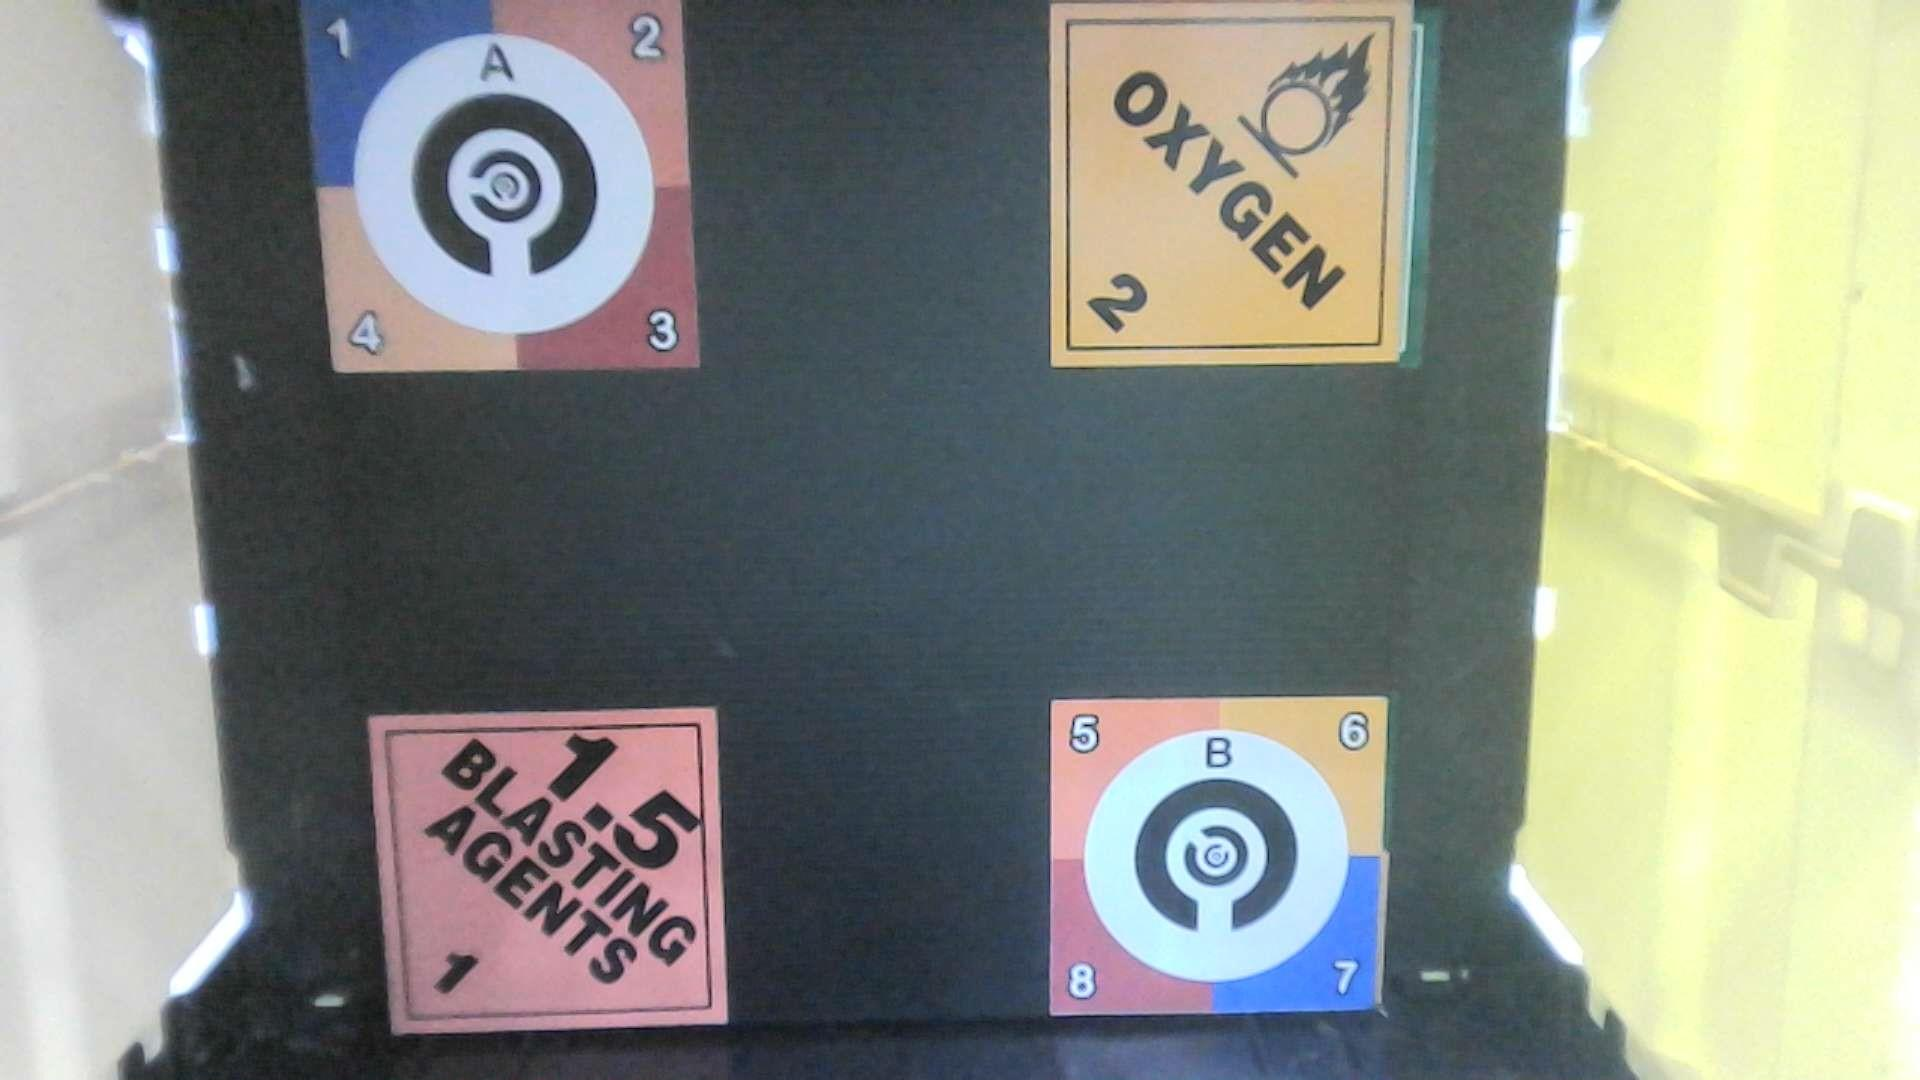explosive: (353, 688, 754, 1050)
oxidizer: (1044, 1, 1422, 378)
